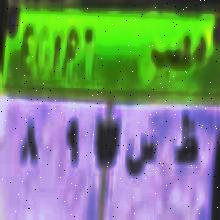8: (18, 119, 39, 173)
9: (63, 115, 81, 174)
Thaa: (174, 110, 202, 170)
seen: (126, 134, 160, 178)
